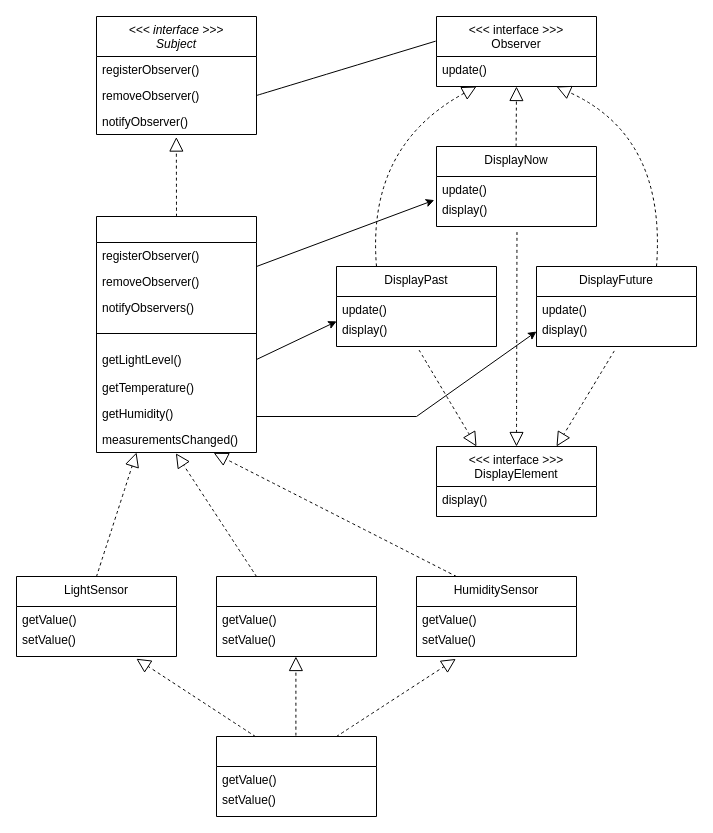
Some shapes in this 713 by 833 pixel diagram are drawn without their labels. The shapes that lost their labels are listed below. From the top down, each one's box as (x1, y1, x2, y2) in pixels, then its label:
(96, 216, 256, 452): SensorData
(216, 576, 376, 656): TemperatureSensor
(216, 736, 376, 816): Sensor
